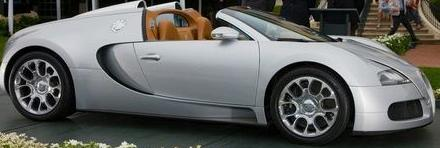front_view: (362, 48, 440, 135)
headlight: (365, 57, 415, 91)
